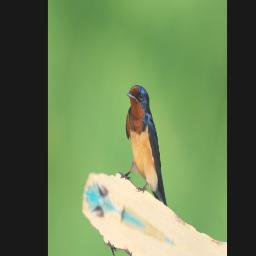Swallow: (110, 78, 186, 210)
